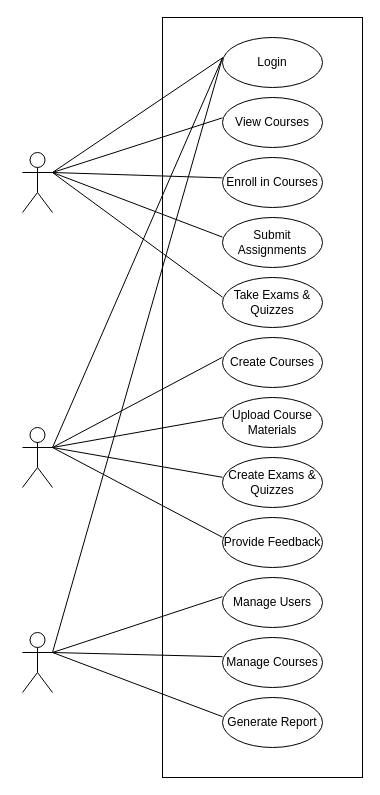
The diagram is 380 pixels wide and 795 high, and some of its shapes have lost their labels. Here are the shapes that lost their labels. From the top down, the centre of each, then its label:
At pixel 37 182: "Student".
At pixel 37 457: "Tutor".
At pixel 37 662: "Admin".
